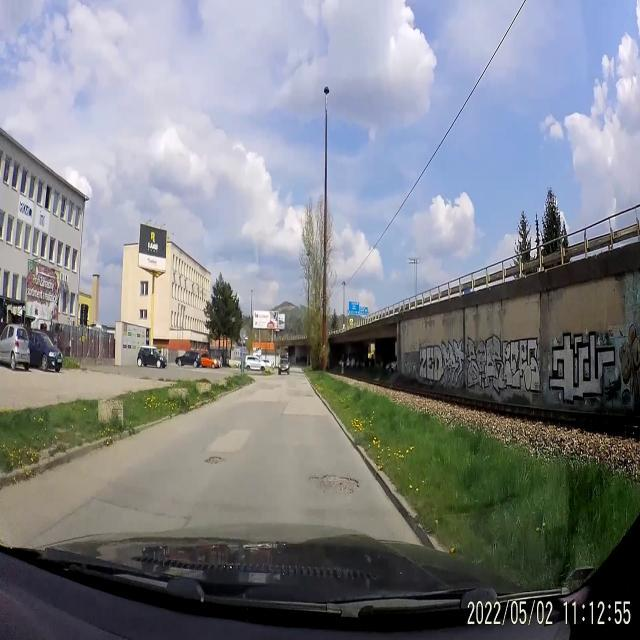Pothole: (308, 471, 363, 497), (204, 453, 226, 468)
